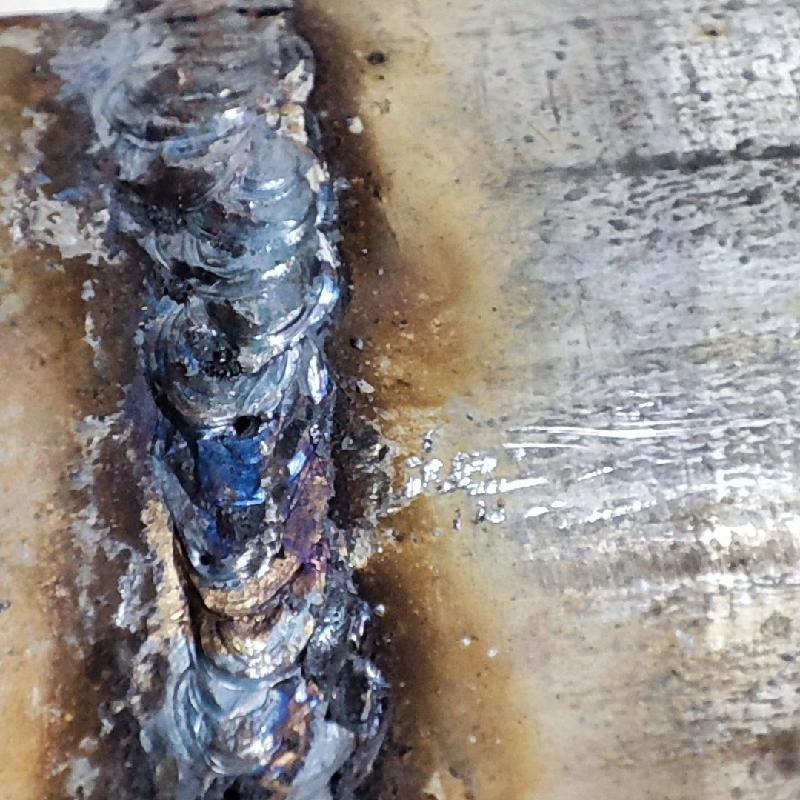Surface_pores: (174, 507, 253, 574), (218, 405, 273, 445)
